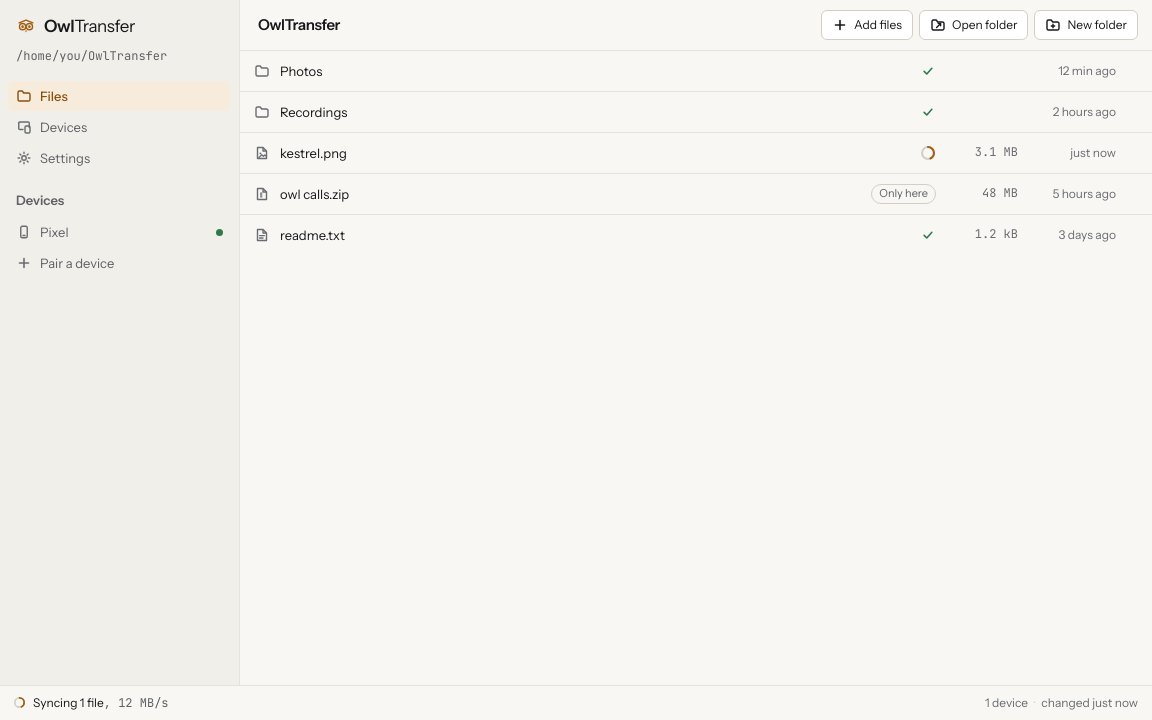
the files pane › creates a folder from the dialog and shows it in the list
Expected: the button "readme.txt 1.2 kB 3 days ago" is shown, [240,215,1120,255]
Click the button "New folder": (1086, 25) [1034,10,1138,40]
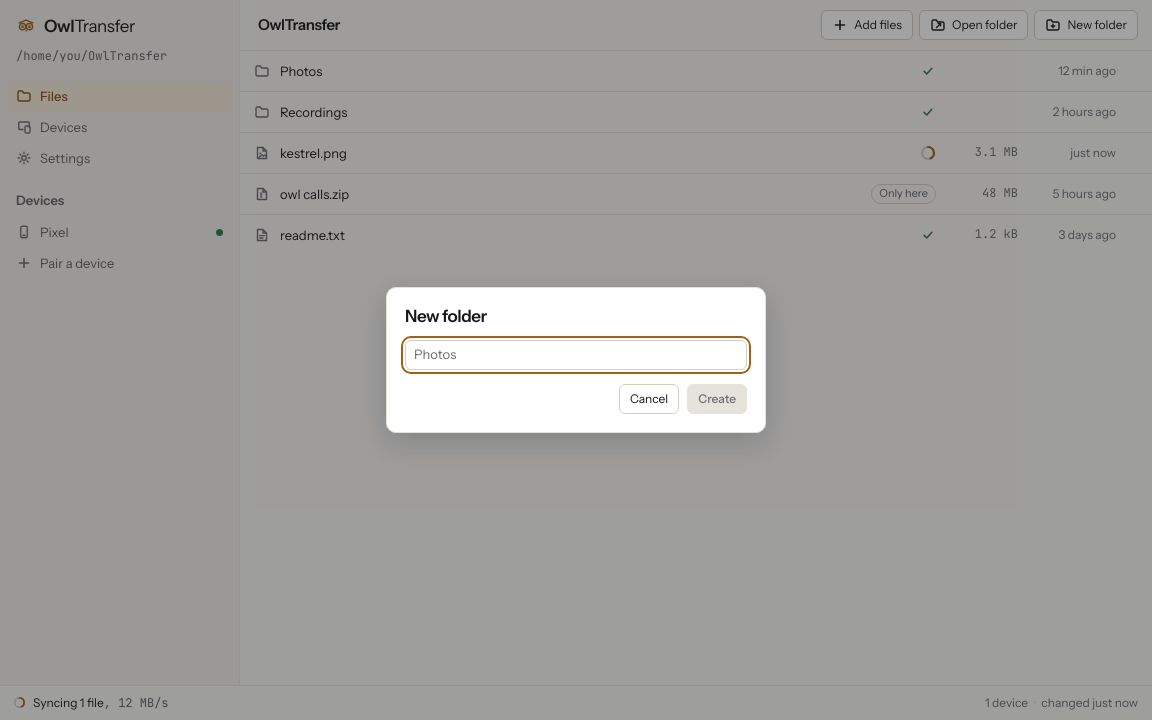
In the field named "Name": (576, 355) [405,340,747,370], type "Scans"
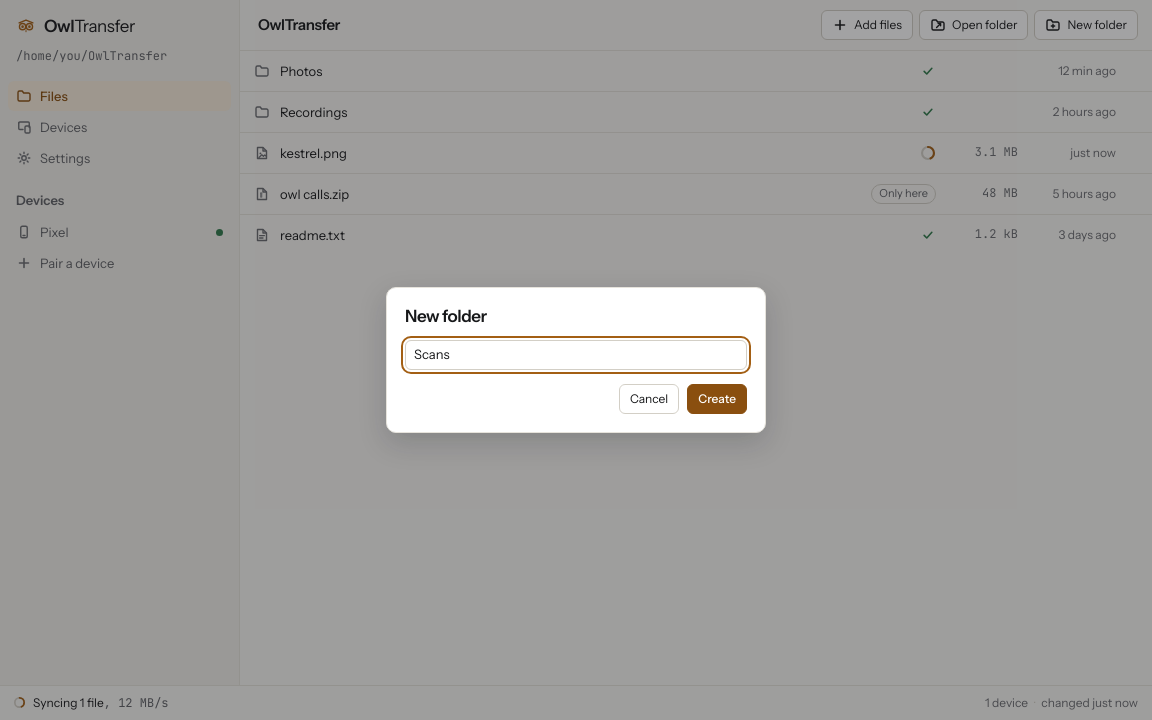
Click the button "Create": (717, 399) [687,384,747,414]
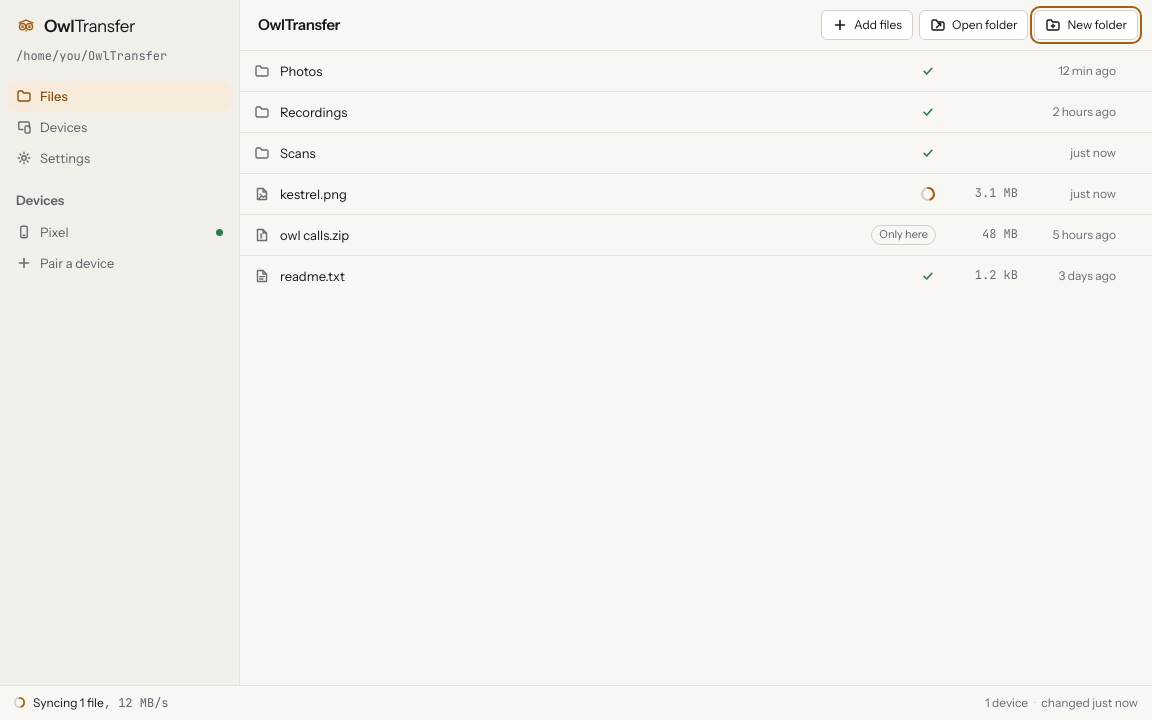
Expected: the button "Scans just now" is shown, [240,133,1120,173]
Expected: the dialog is gone
